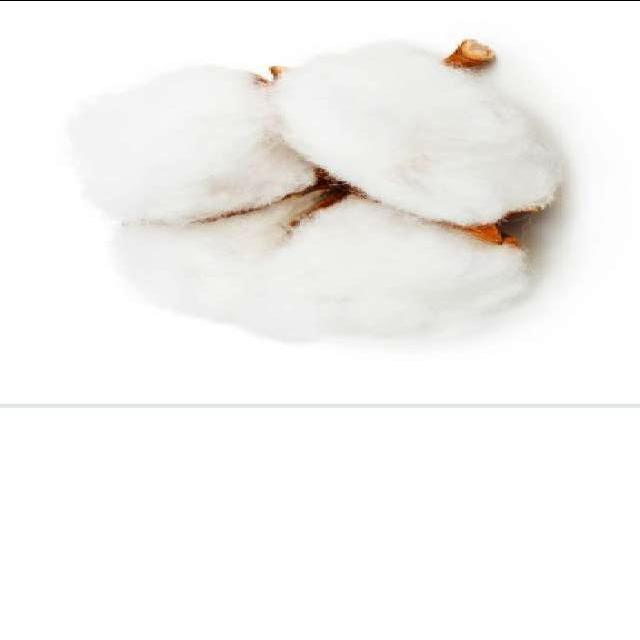Matured Cotton Boll: (69, 34, 567, 348)
